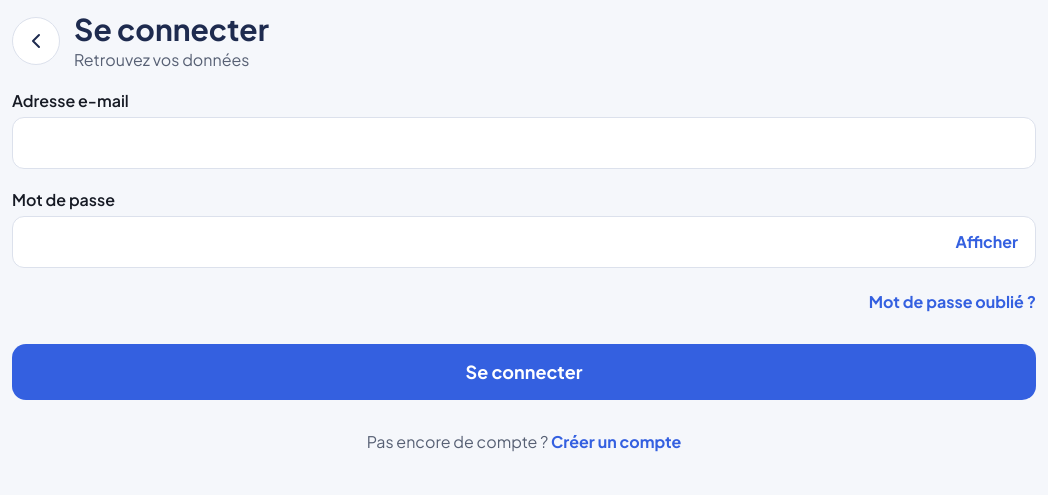
Se connecter › mot de passe oublié avec l’adresse «  » : erreur au champ adresse, sans fenêtre, rien n’est envoyé
The image size is (1048, 495).
Click the button "Mot de passe oublié ?": {"x": 952, "y": 302} x1=869 y1=280 x2=1036 y2=324
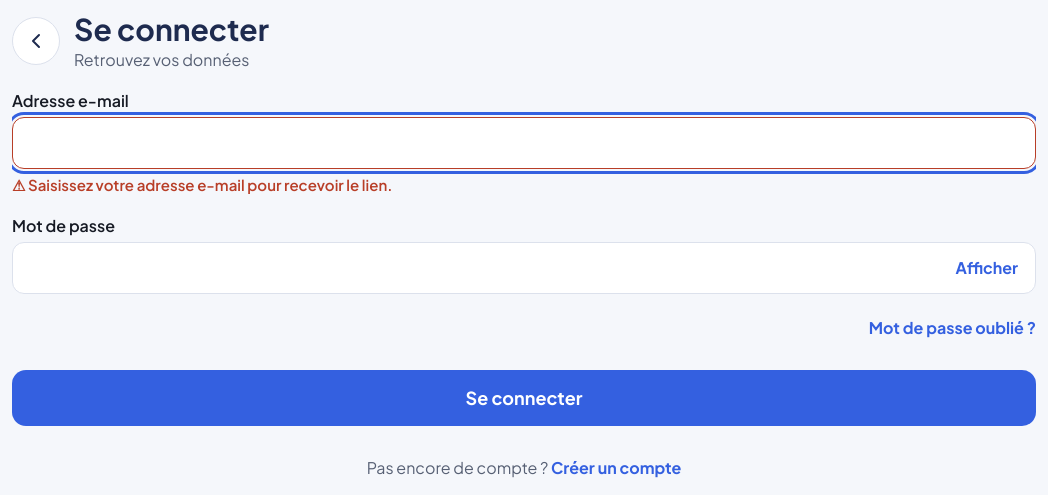
Now the text "Saisissez votre adresse e-mail pour recevoir le lien." is shown, box x1=28 y1=174 x2=392 y2=194
